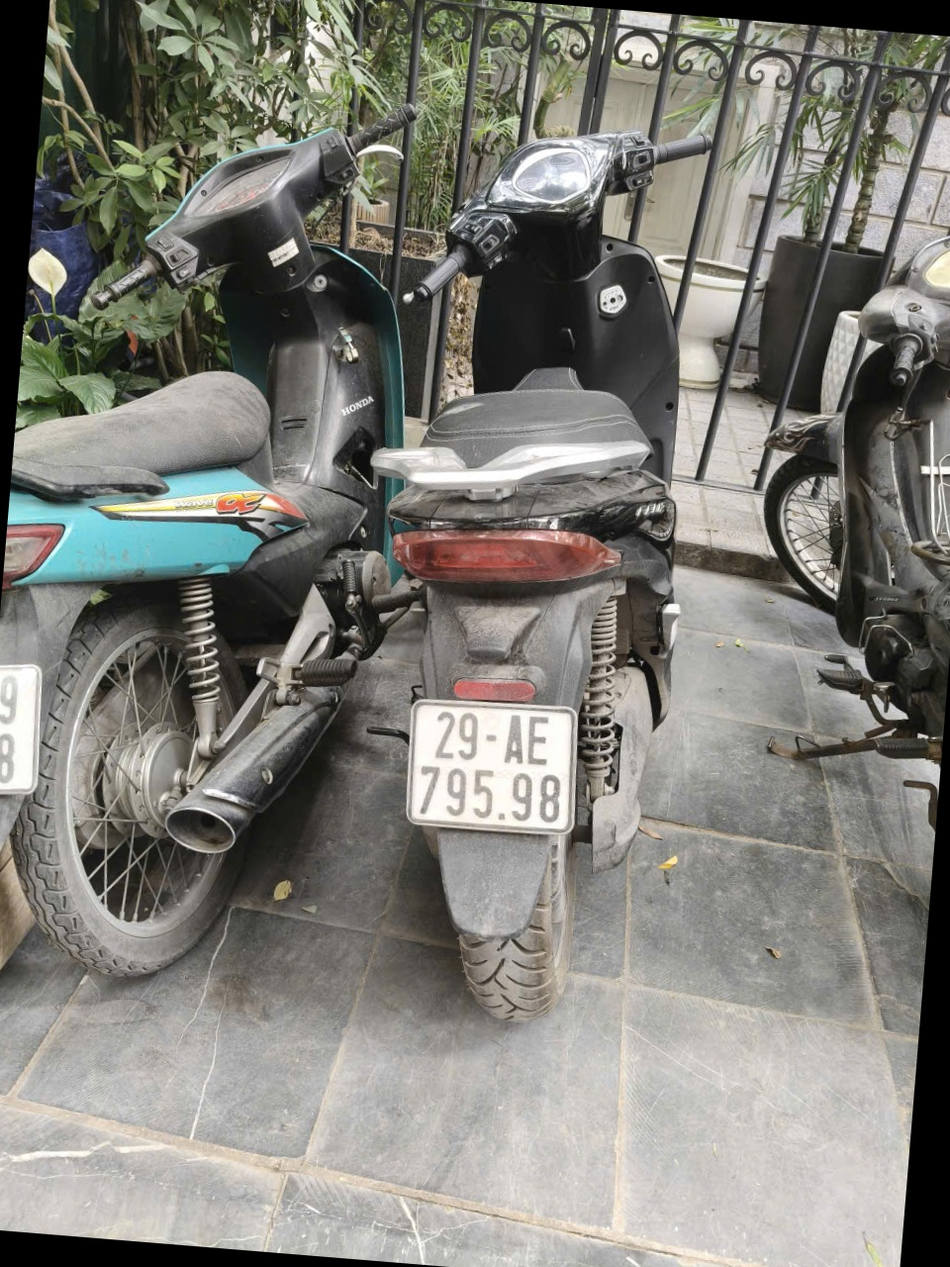plate: (400, 474, 517, 506)
